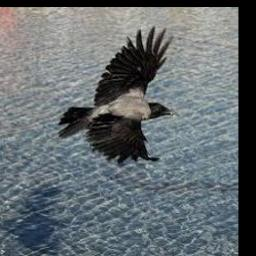Crow: (57, 25, 176, 163)
